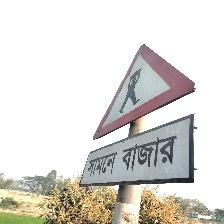Market-in-front: (82, 43, 200, 187)
